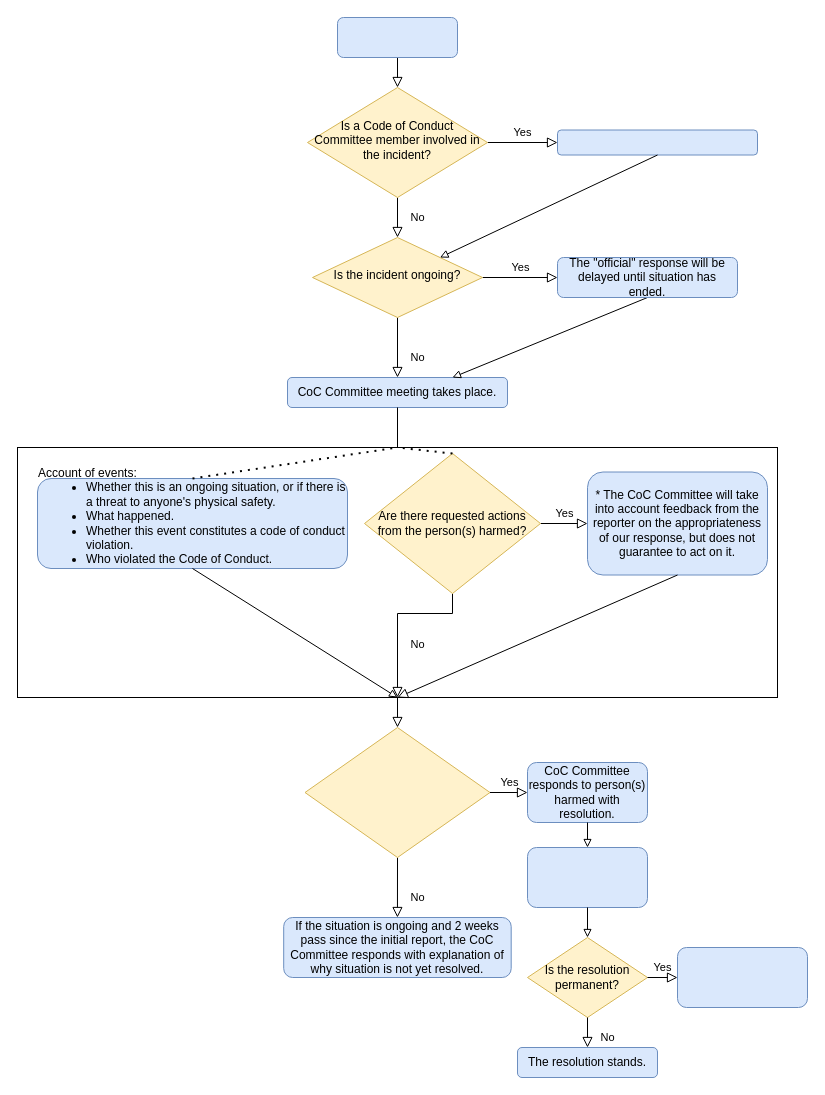
The diagram is 825 pixels wide and 1095 high, and some of its shapes have lost their labels. The shapes that lost their labels are listed below. From the top down, each one's box as (x1, y1, x2, y2) in pixels, then its label:
(336, 16, 458, 58): Acknowledgement of report received.
(556, 129, 758, 155): CoC Committee member is recused.
(304, 726, 490, 858): Has a resolution been found?
(526, 846, 648, 908): CoC Committee issues report to Board of Directors.
(676, 946, 808, 1008): The resolution may be appealed to the Board of Directors.
